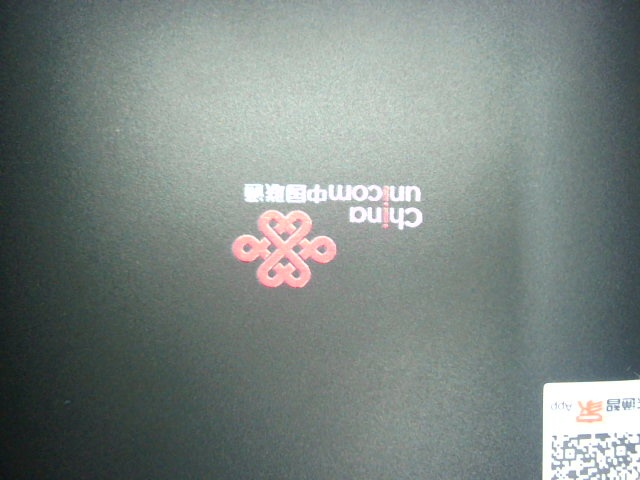AC_ChinaUnicom: (216, 172, 425, 295)
